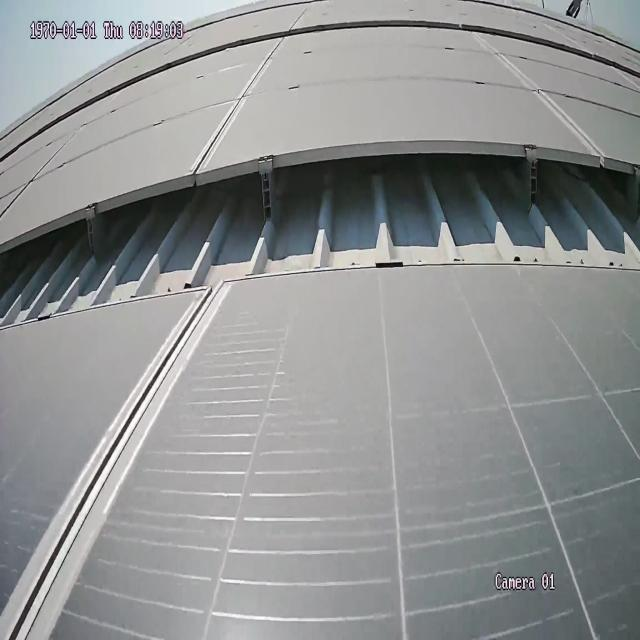interior panel: (0, 307, 209, 640), (479, 42, 604, 147), (191, 46, 275, 166)
outher panel: (3, 144, 638, 326)
